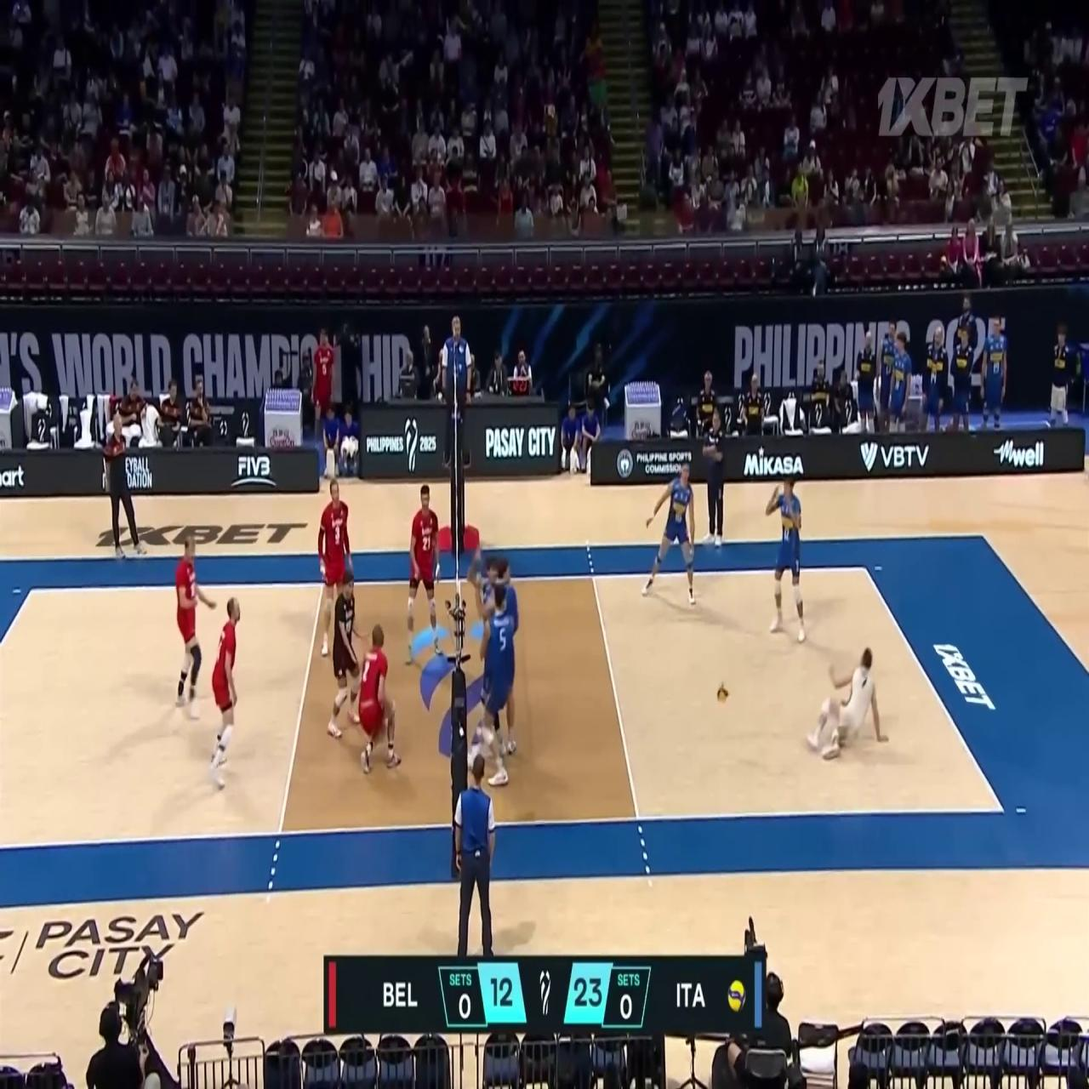ball: (716, 681, 730, 704)
